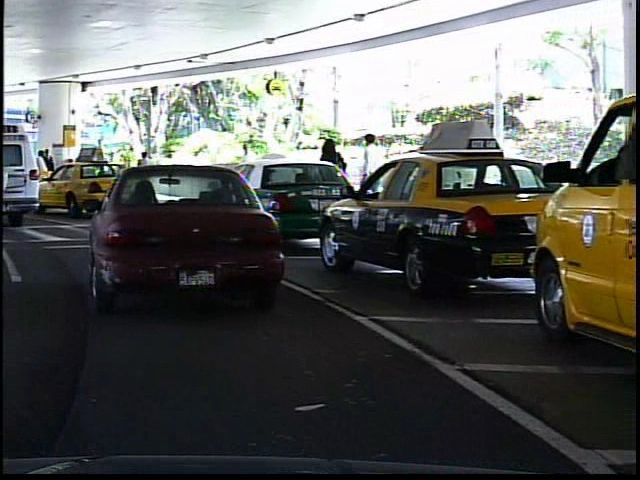person: (311, 132, 346, 230), (353, 129, 385, 226), (231, 137, 260, 206), (128, 145, 154, 198), (32, 146, 47, 197)
